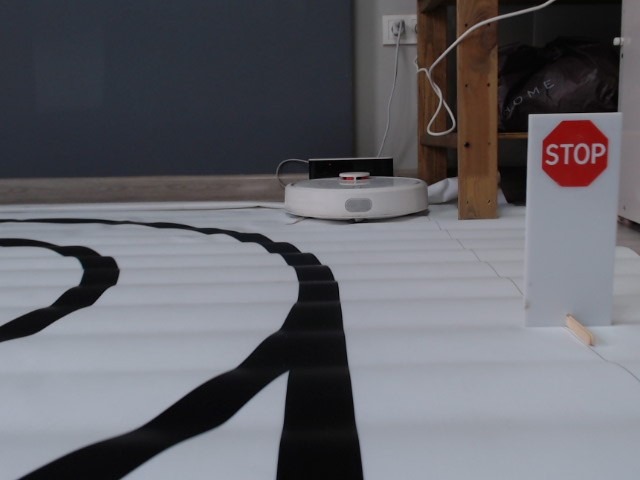Stop: (540, 117, 610, 189)
